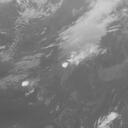cyclone: (44, 33, 86, 75)
